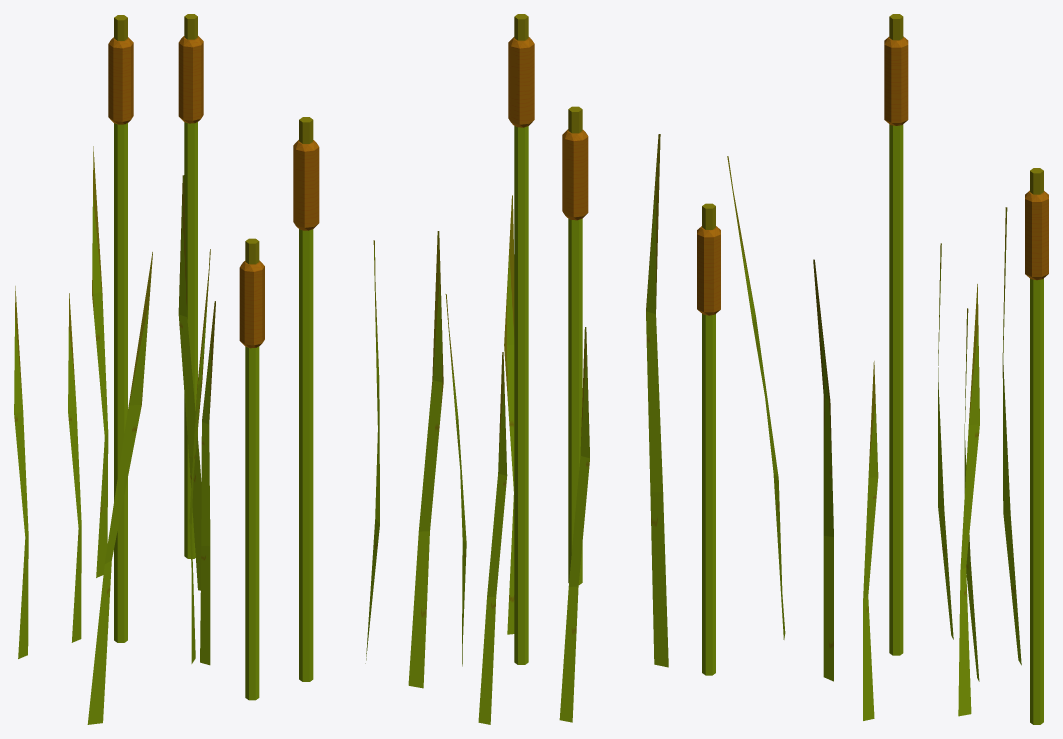
The model's file is cattail.fbx.
3 renders of one model, left to right at view 1: azimuth 30°, elevation 25°; view 2: azimuth 150°, elevation 25°; view 3: azimuth 270°, elevation 25°, orthographic. The views are drawn at different scales.
Visible parts, largest first — view 1: Cylinder.005; view 2: Cylinder.005; view 3: Cylinder.005.
Boxes of the visible parts, box(x1,y1,x2,y2) form: Cylinder.005: box(14, 14, 264, 724); Cylinder.005: box(293, 14, 668, 724); Cylinder.005: box(697, 14, 1048, 724).
Bounding box in the file's own units: 119 × 315 × 150.
